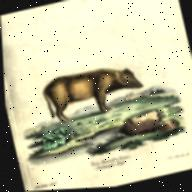boar: (38, 57, 149, 128)
